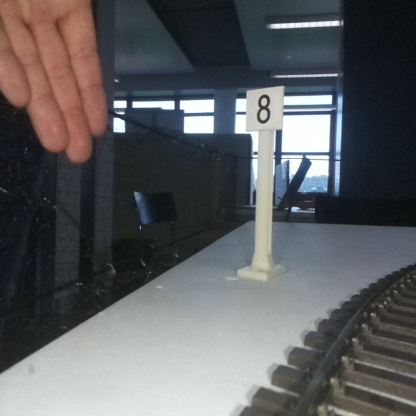white-info-8: (246, 87, 283, 277)
